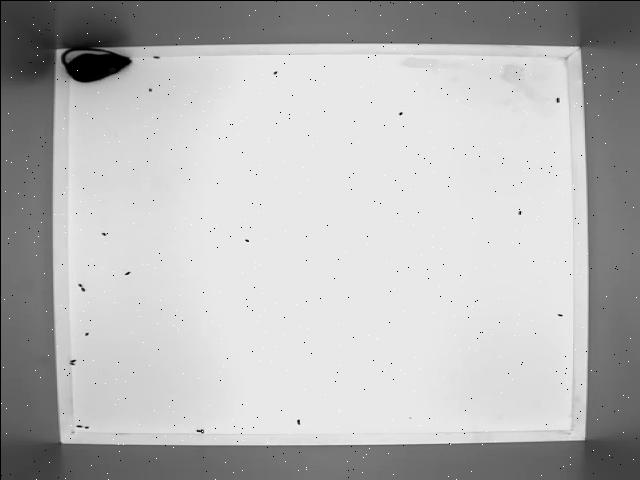Tikus: (56, 46, 134, 84)
